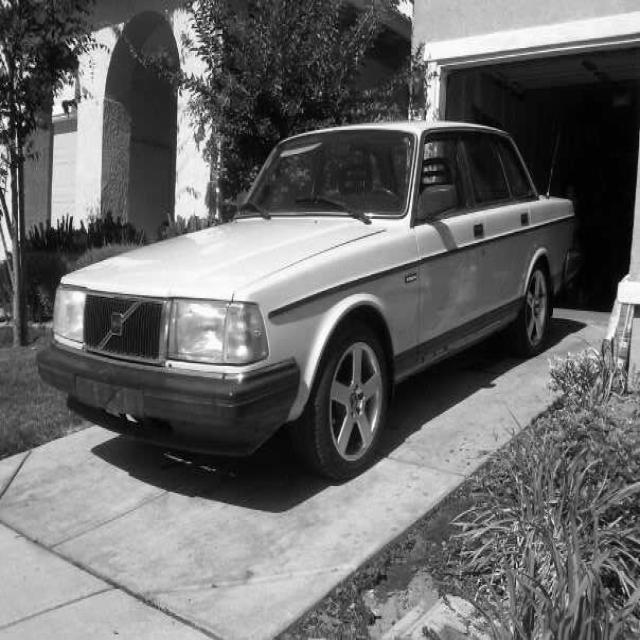car: (35, 118, 582, 480)
